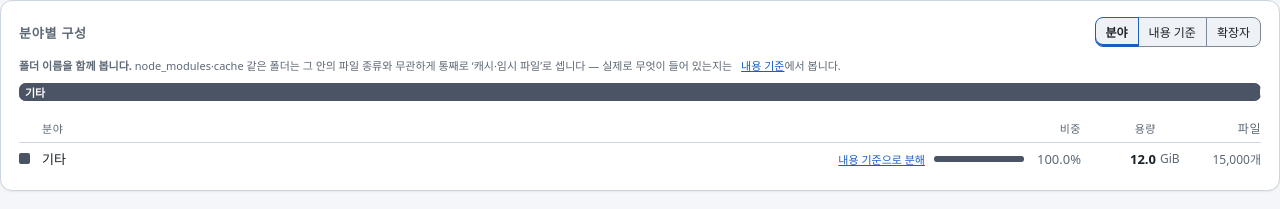
Test: '기타' 분해 › 힌트 축에서는 확장자 교차 대신 축 전환만 시킨다
What coordinates should you click on to do the following:
click the button "내용 기준으로 분해"
I would click on:
 (882, 159)
Its box is [838, 151, 925, 167].
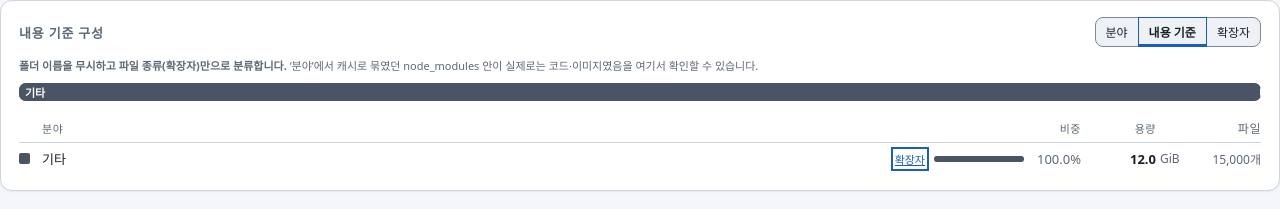
expect the heading reads "내용 기준 구성": met, box [19, 24, 104, 42]
